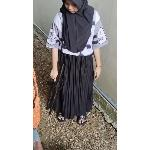Senapan: (44, 60, 70, 116)
